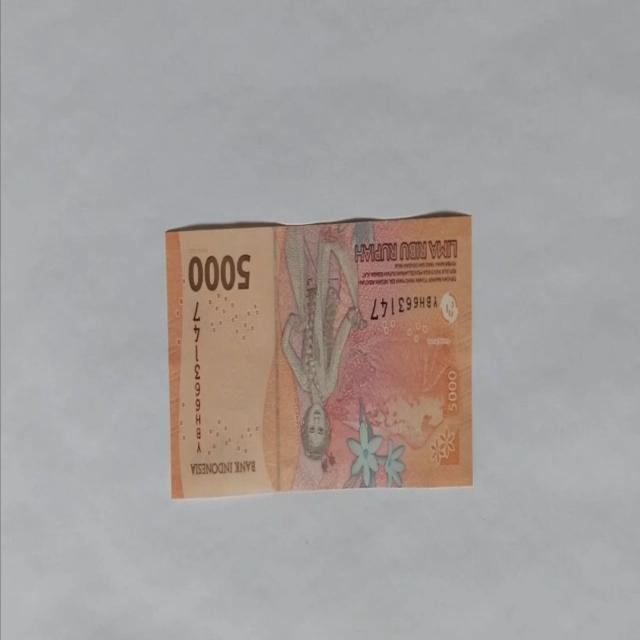lima ribu rupiah: (164, 210, 473, 498)
